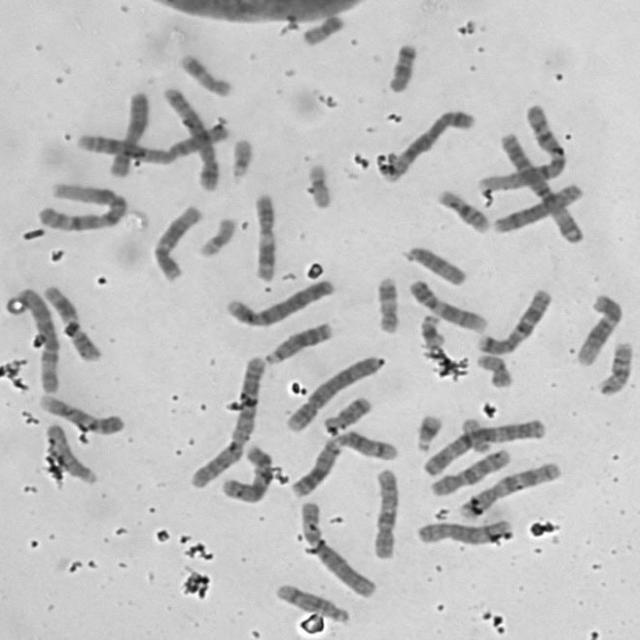A1: (474, 101, 569, 193), (33, 177, 130, 233)
A2: (185, 350, 269, 490), (71, 113, 232, 166)
A3: (496, 127, 587, 244), (419, 415, 550, 478)
B4: (280, 350, 386, 434), (220, 274, 337, 329)
B5: (377, 103, 478, 183), (157, 82, 220, 193)
C10: (426, 444, 513, 498), (366, 464, 402, 560)
C11: (39, 279, 104, 364), (249, 188, 280, 284)
C12: (149, 200, 205, 284), (572, 289, 625, 367)
C6: (297, 496, 379, 599), (12, 281, 62, 396)
C7: (457, 457, 564, 520), (472, 284, 554, 358)
C8: (488, 178, 586, 235), (412, 514, 514, 546)
C9: (405, 275, 489, 334), (35, 389, 126, 436)
D13: (260, 316, 336, 366), (288, 434, 345, 498)
D14: (271, 579, 352, 626), (332, 426, 401, 462)
D15: (41, 420, 99, 487), (400, 241, 470, 287)
E16: (433, 183, 493, 234), (594, 337, 635, 397)
E17: (174, 47, 235, 98), (372, 272, 402, 335)
E18: (320, 391, 374, 434), (382, 37, 420, 94)
F19: (194, 213, 239, 259), (302, 158, 334, 210)
F20: (298, 8, 347, 47), (472, 348, 516, 389)
G21: (410, 409, 446, 453), (416, 310, 448, 349)
G22: (226, 133, 256, 180), (463, 415, 494, 454)
X: (105, 86, 154, 179), (217, 439, 275, 504)
